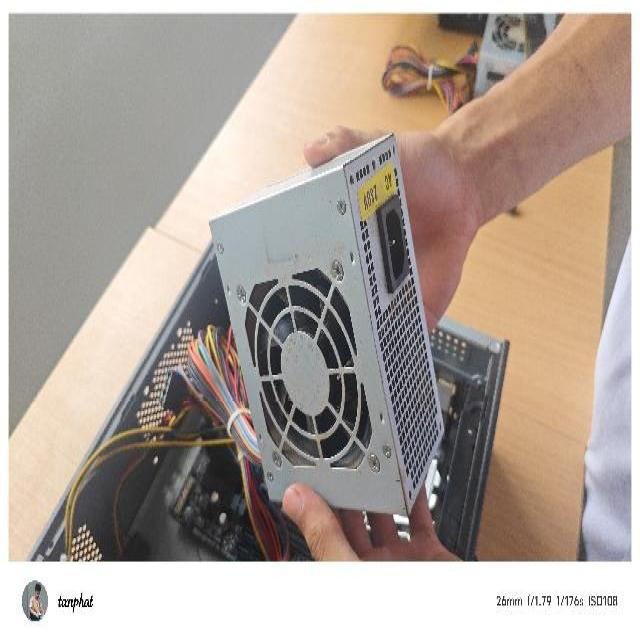PSU: (208, 128, 448, 520)
